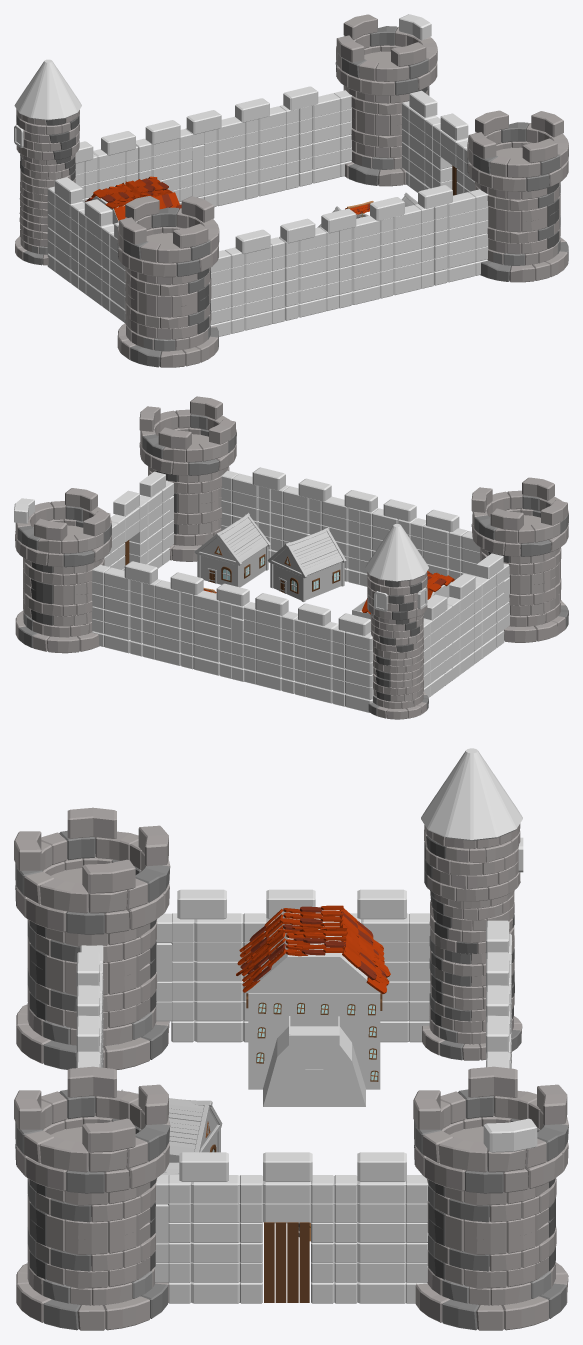
File: zamok.fbx
The picture shows the model from 3 angles, top to bottom: view 1: azimuth 30°, elevation 25°; view 2: azimuth 150°, elevation 25°; view 3: azimuth 270°, elevation 25°; orthographic projection. The views are drawn at different scales.
Visible parts, largest first — view 1: Cube.037, Cube.096, Cube.183, Cube.025, Cube.091, Cube.169, Cube.116, Cube.074, Cone, Plane.006, Cube.093; view 2: Cube.096, Cube.037, Cube.091, Cube.183, Cube.025, Cube.169, Cube.116, Cube.074, Cube.004, Cube.018, Cone, Plane.006 (+1 smaller); view 3: Cube.025, Cube.074, Cube.091, Cube.183, Cube.169, Cube.116, Plane.006, Cube.186, Cube.188, Cone, Cube.187, Cube.096 (+6 smaller).
Boxes of the visible parts, bbox=[...] form: Cube.037: bbox=[211, 185, 488, 336]; Cube.096: bbox=[75, 86, 352, 207]; Cube.183: bbox=[117, 196, 219, 367]; Cube.025: bbox=[467, 110, 568, 282]; Cube.091: bbox=[335, 14, 437, 186]; Cube.169: bbox=[47, 177, 125, 322]; Cube.116: bbox=[15, 109, 79, 265]; Cube.074: bbox=[402, 90, 474, 194]; Cone: bbox=[14, 59, 81, 120]; Plane.006: bbox=[85, 176, 181, 220]; Cube.093: bbox=[399, 14, 431, 40]; Cube.096: bbox=[92, 561, 373, 712]; Cube.037: bbox=[221, 467, 479, 586]; Cube.091: bbox=[15, 488, 111, 653]; Cube.183: bbox=[471, 477, 568, 642]; Cube.025: bbox=[139, 396, 236, 561]; Cube.169: bbox=[423, 553, 510, 697]; Cube.116: bbox=[367, 571, 428, 719]; Cube.074: bbox=[104, 471, 174, 570]; Cube.004: bbox=[267, 526, 346, 601]; Cube.018: bbox=[194, 512, 270, 587]; Cone: bbox=[365, 524, 428, 581]; Plane.006: bbox=[361, 571, 454, 614]; Cube.025: bbox=[14, 1066, 170, 1330]; Cube.074: bbox=[154, 1152, 428, 1303]; Cube.091: bbox=[413, 1066, 568, 1330]; Cube.183: bbox=[14, 807, 170, 1069]; Cube.169: bbox=[156, 889, 430, 1042]; Cube.116: bbox=[422, 823, 522, 1060]; Plane.006: bbox=[236, 905, 390, 993]; Cube.186: bbox=[248, 993, 380, 1089]; Cube.188: bbox=[263, 1026, 365, 1106]; Cone: bbox=[421, 748, 522, 840]; Cube.187: bbox=[246, 912, 380, 993]; Cube.096: bbox=[486, 920, 511, 1068].
Bounding box in the file's own units: 3970 × 1667 × 2864.
